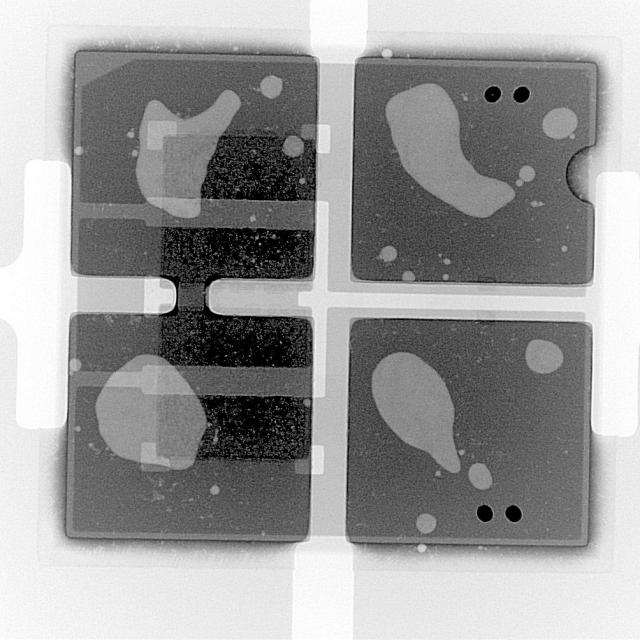component: (66, 309, 312, 542), (71, 52, 317, 284), (347, 319, 592, 547), (353, 57, 597, 285)
void: (386, 83, 516, 218), (135, 90, 241, 218), (95, 355, 207, 472), (372, 353, 462, 474), (527, 340, 565, 375), (544, 107, 579, 139), (470, 464, 493, 491), (259, 74, 283, 98), (282, 135, 305, 157), (416, 514, 438, 535), (378, 245, 398, 263), (520, 165, 537, 182), (68, 358, 81, 373), (210, 486, 220, 496)
